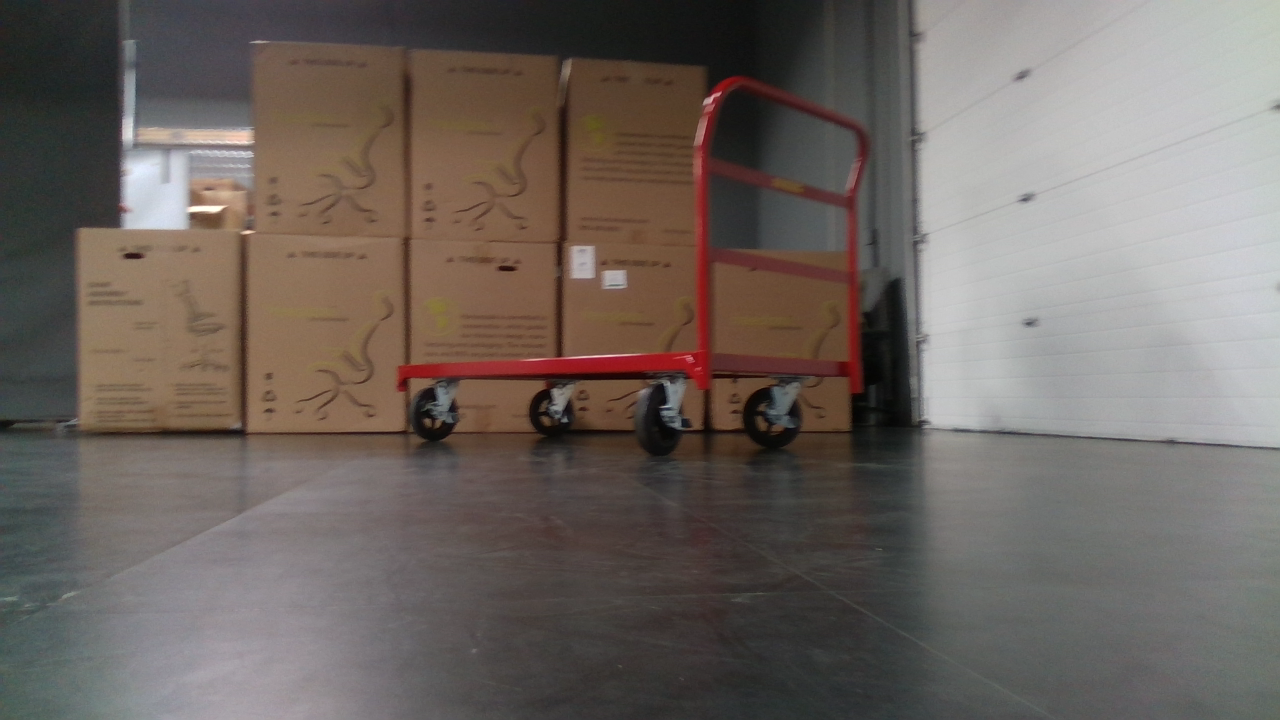Dolly: (394, 76, 870, 462)
Wheel: (631, 384, 693, 459), (742, 386, 805, 451), (407, 385, 461, 442), (526, 388, 580, 438)
